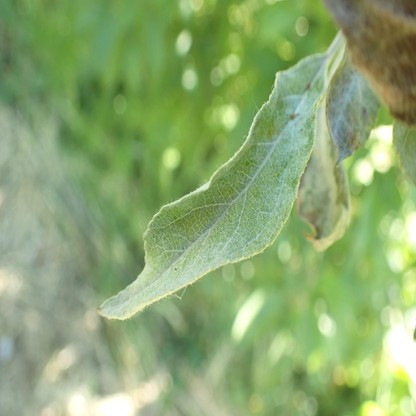powdery_mildew: (95, 49, 327, 321), (295, 98, 351, 253), (325, 59, 380, 167), (392, 123, 416, 184)
